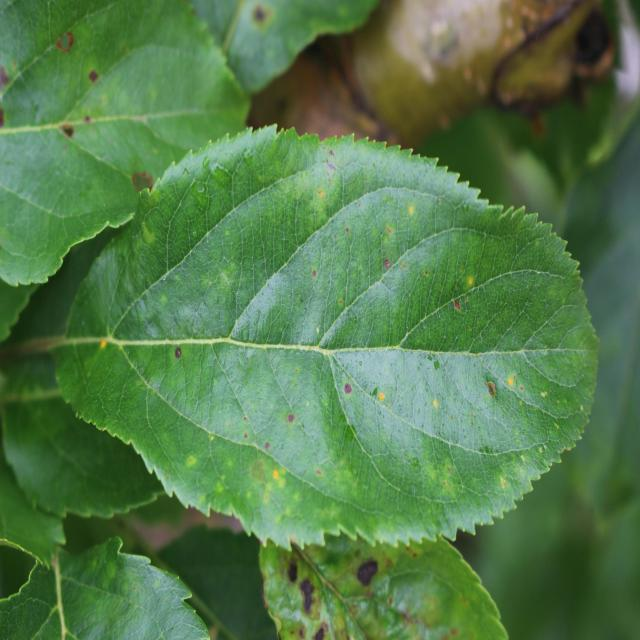rust: (54, 123, 600, 552), (0, 0, 250, 287), (258, 530, 509, 640)
